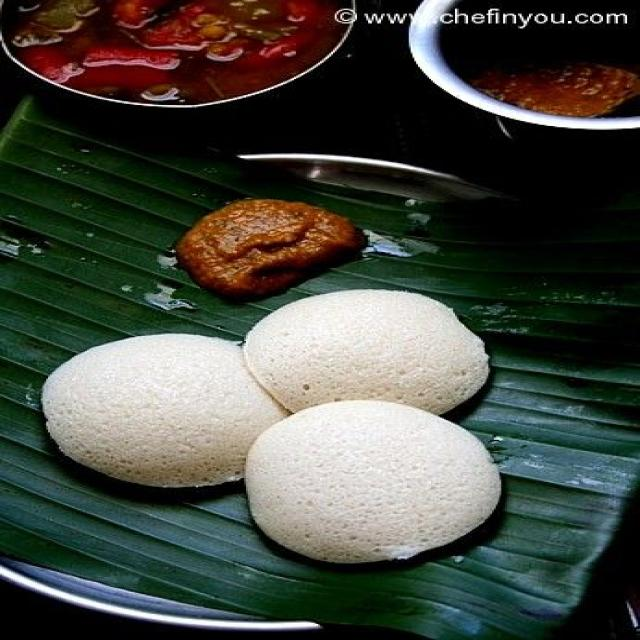Wet Waste: (39, 322, 316, 489), (244, 399, 505, 559), (244, 286, 487, 418)
